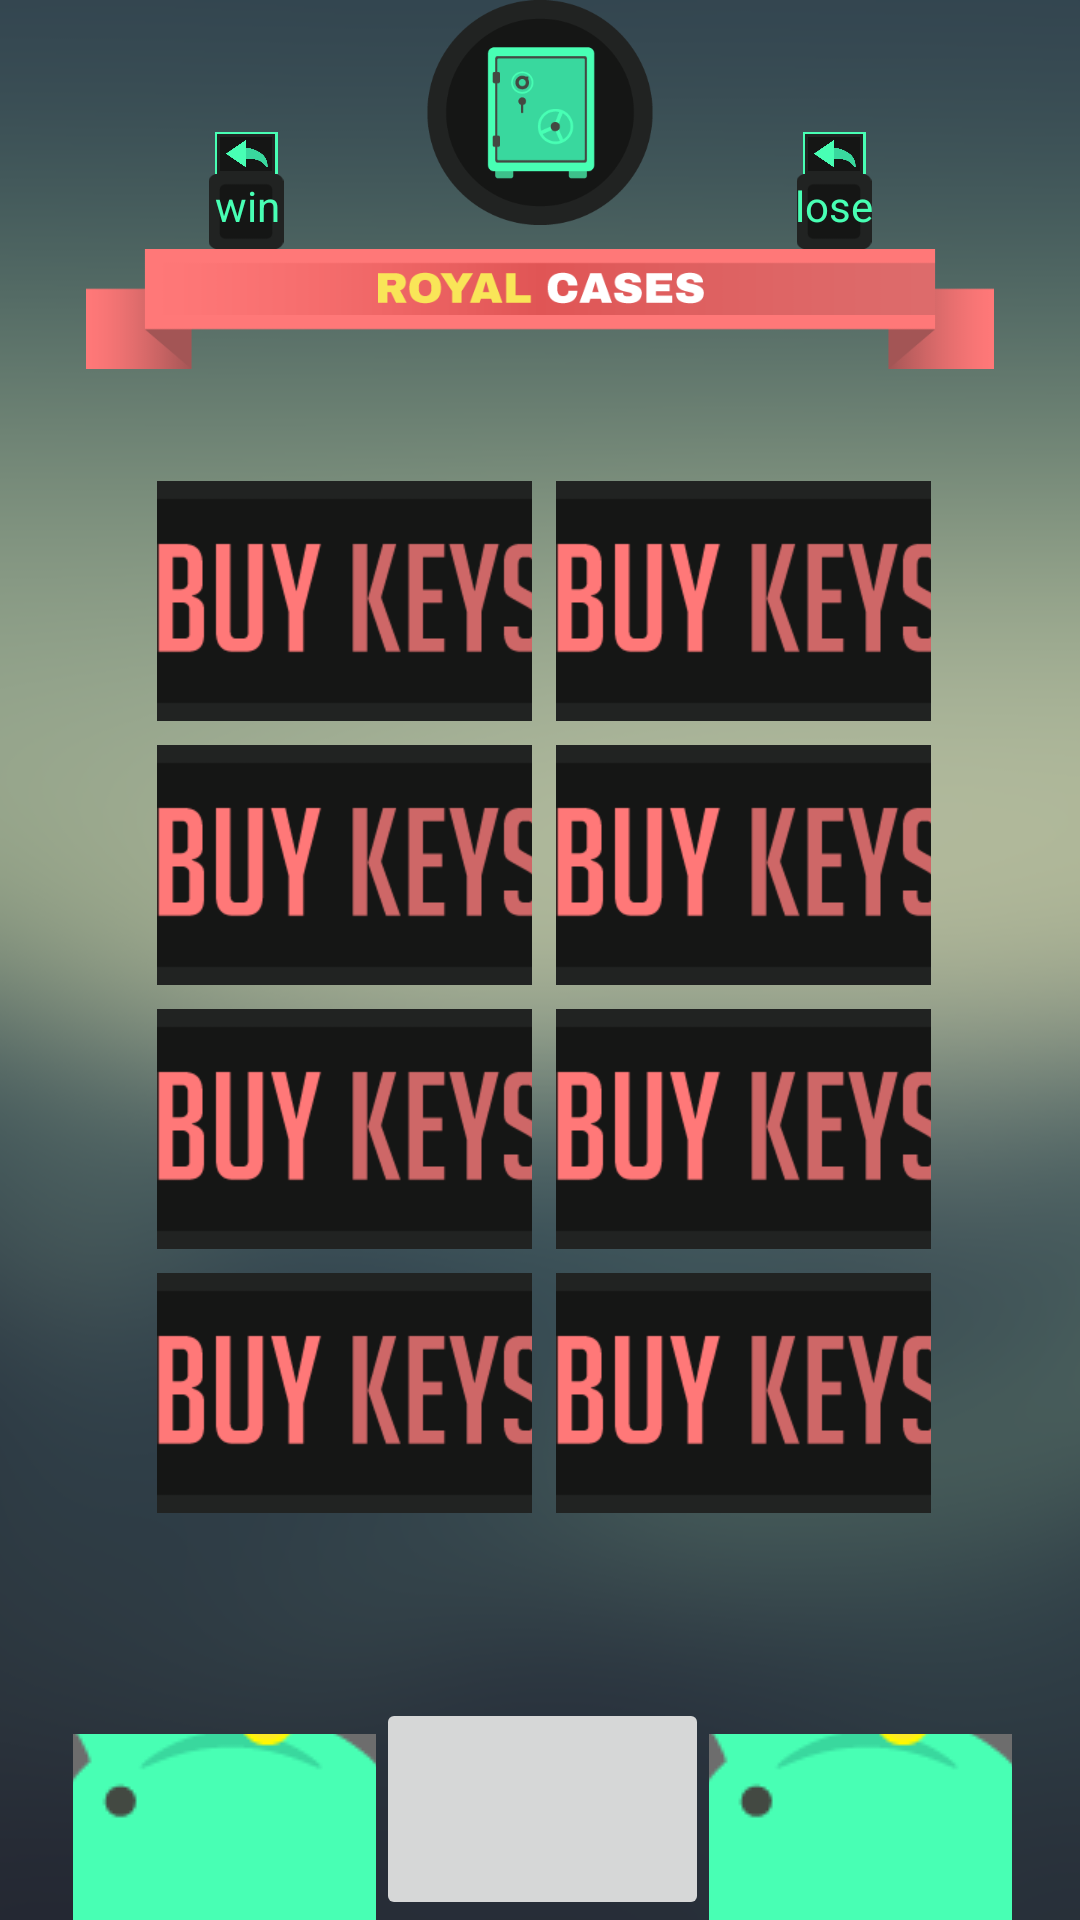

Locate icon controls on the screen. Image size 1080x1920, boxes as (x1, y1, x2, y2).
back: (215, 132, 278, 174), (803, 132, 866, 174)
